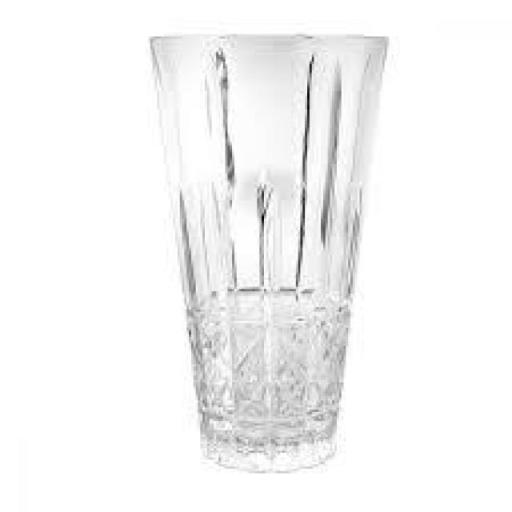glass: (132, 11, 398, 484)
